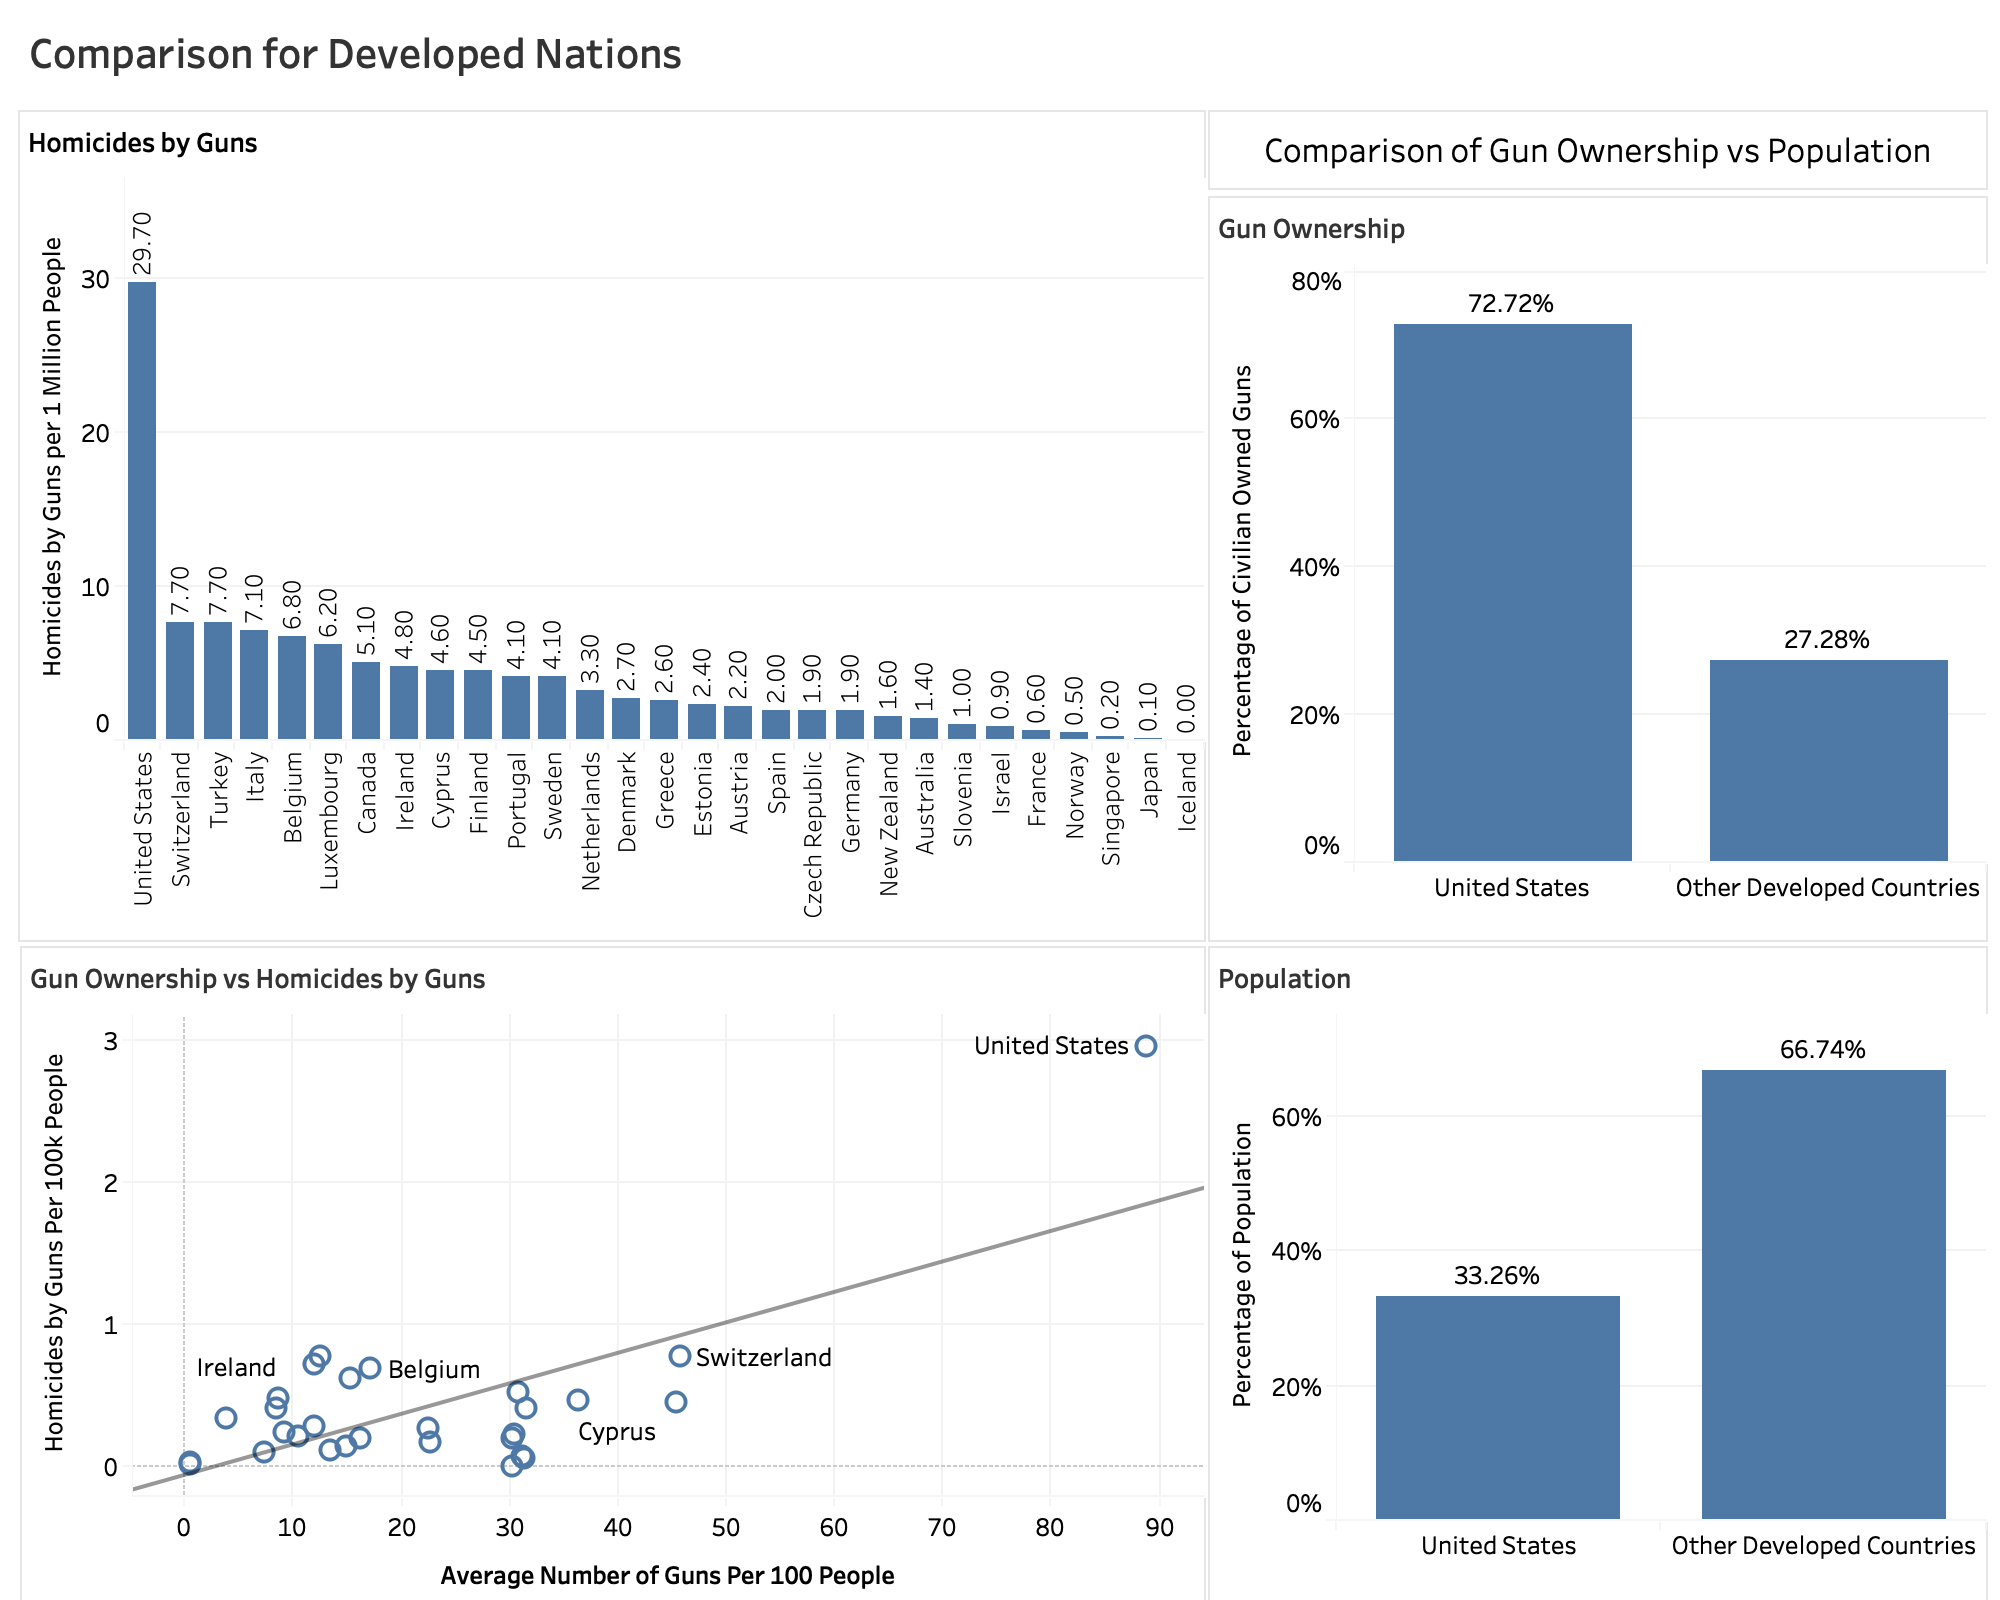

What the dashboard file says about the page in this screenshot:
{"tool":"tableau","page":{"name":"CountryAnalysis","canvas":[1000,800],"ordinal":0},"visuals":[{"type":"title","box":[8,8,984,36]},{"type":"worksheet","title":"country_gunHomicides","mark":"Automatic","rows":["Calculation_19632942008631296"],"cols":["Country"],"box":[9,55,594,416]},{"type":"text","box":[604,55,390,40]},{"type":"worksheet","title":"countrywise_USRest_gunOwnership","mark":"Automatic","rows":["avg_tot_all_guns"],"box":[604,98,390,373]},{"type":"worksheet","title":"countrywise_USRest_population","mark":"Automatic","rows":["pop2019"],"box":[604,473,390,328]}]}

Visuals, with their boxes in screenshot pixels (x1, y1, x2, y2), scaled from the page's 1000x800 canvas onto the 2000x1600 screenshot:
title: BBox(16, 16, 1984, 88)
"country_gunHomicides" worksheet: BBox(18, 110, 1206, 942)
text: BBox(1208, 110, 1988, 190)
"countrywise_USRest_gunOwnership" worksheet: BBox(1208, 196, 1988, 942)
"countrywise_USRest_population" worksheet: BBox(1208, 946, 1988, 1599)
